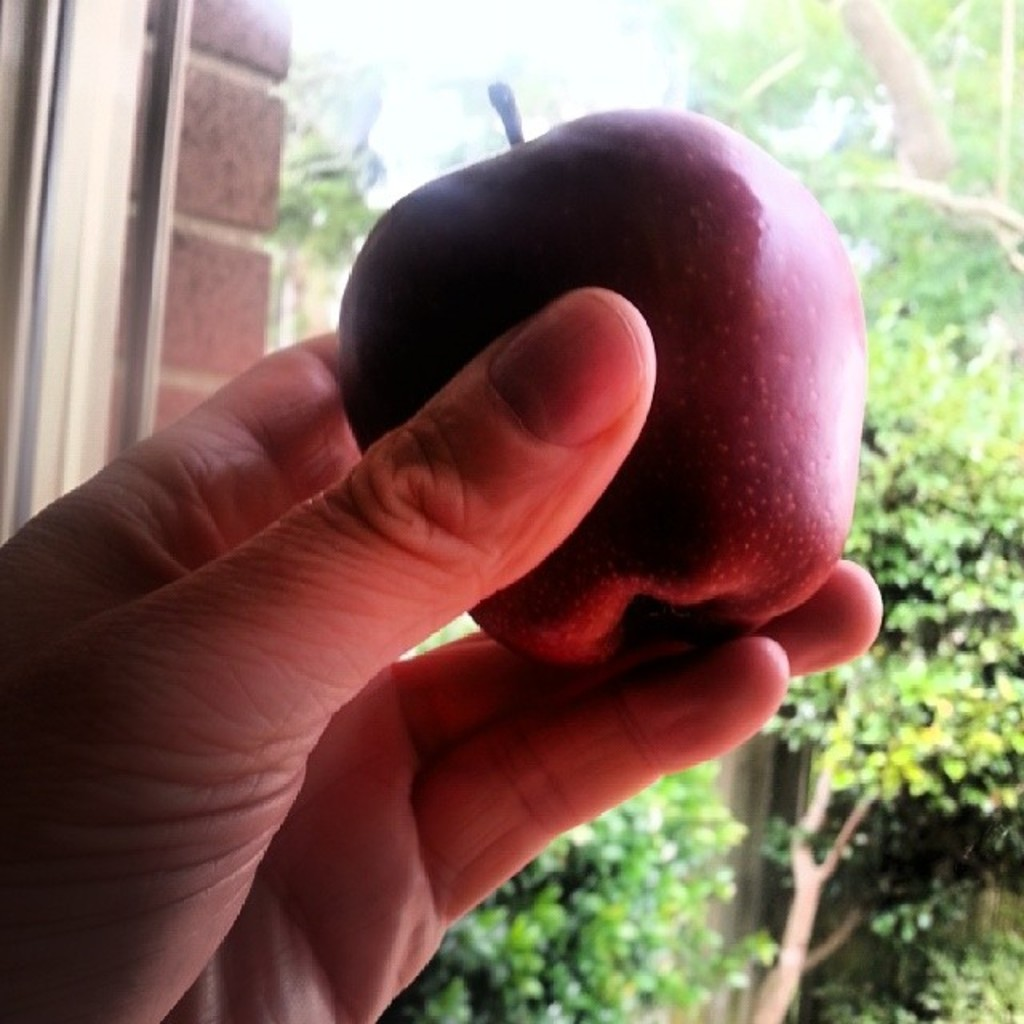Apple: (321, 121, 875, 720)
